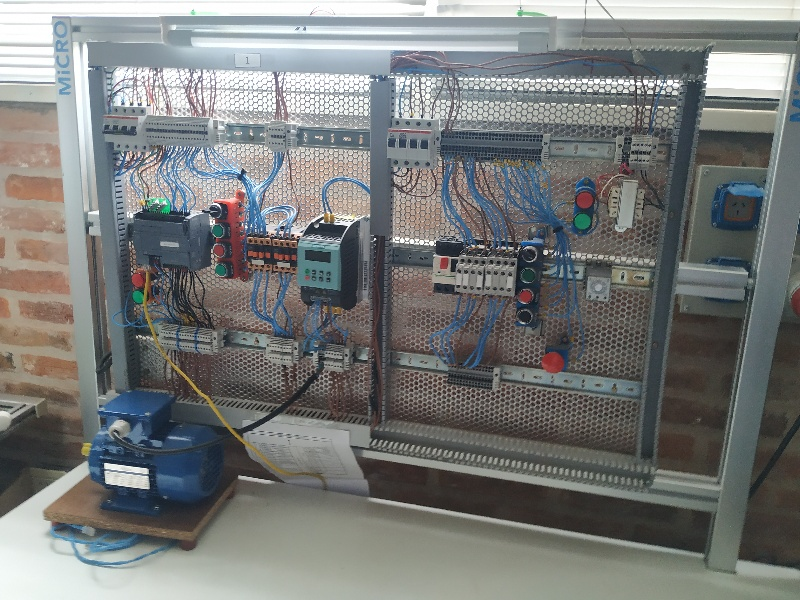Tablero 1: (99, 50, 680, 469)
